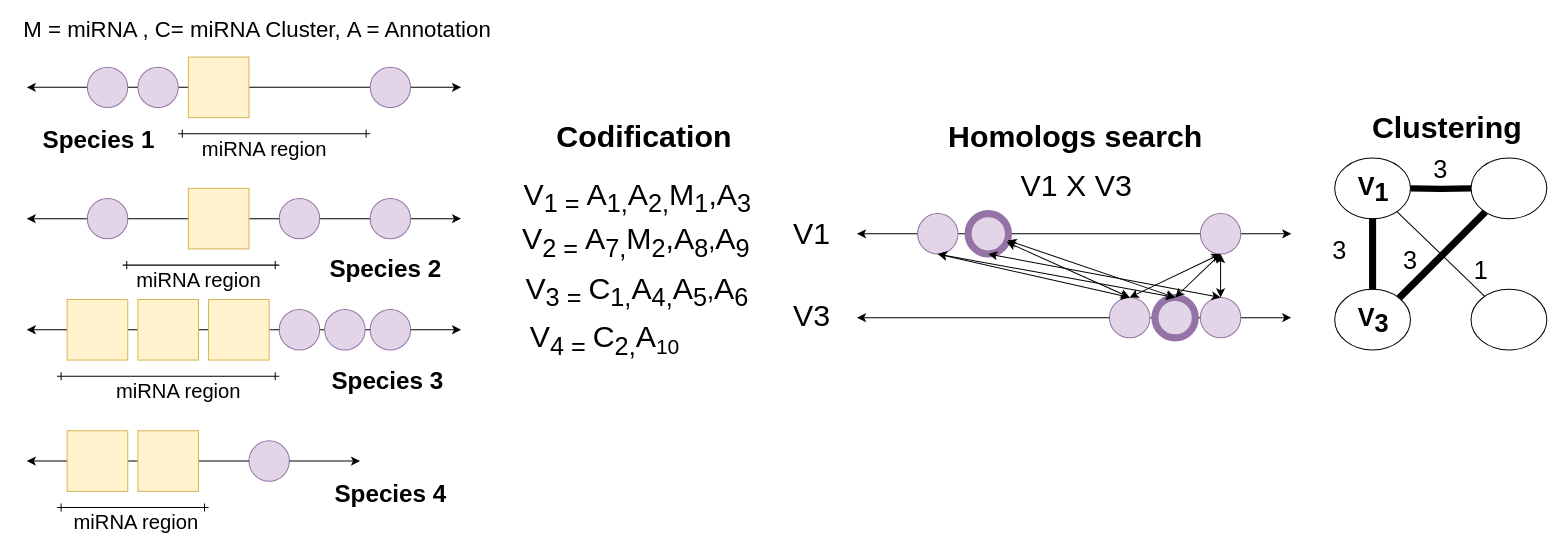
The diagram is 1564 pixels wide and 550 high, and some of its shapes have lost their labels. Each missing label, with the centre of its shape:
V 2: (x=1508, y=188)
V 4: (x=1508, y=319)
